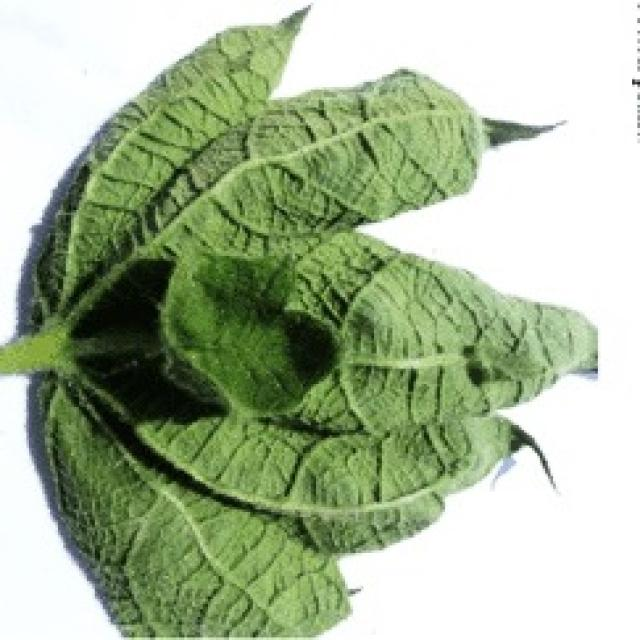Leaf Curl Virus: (99, 111, 449, 515)
